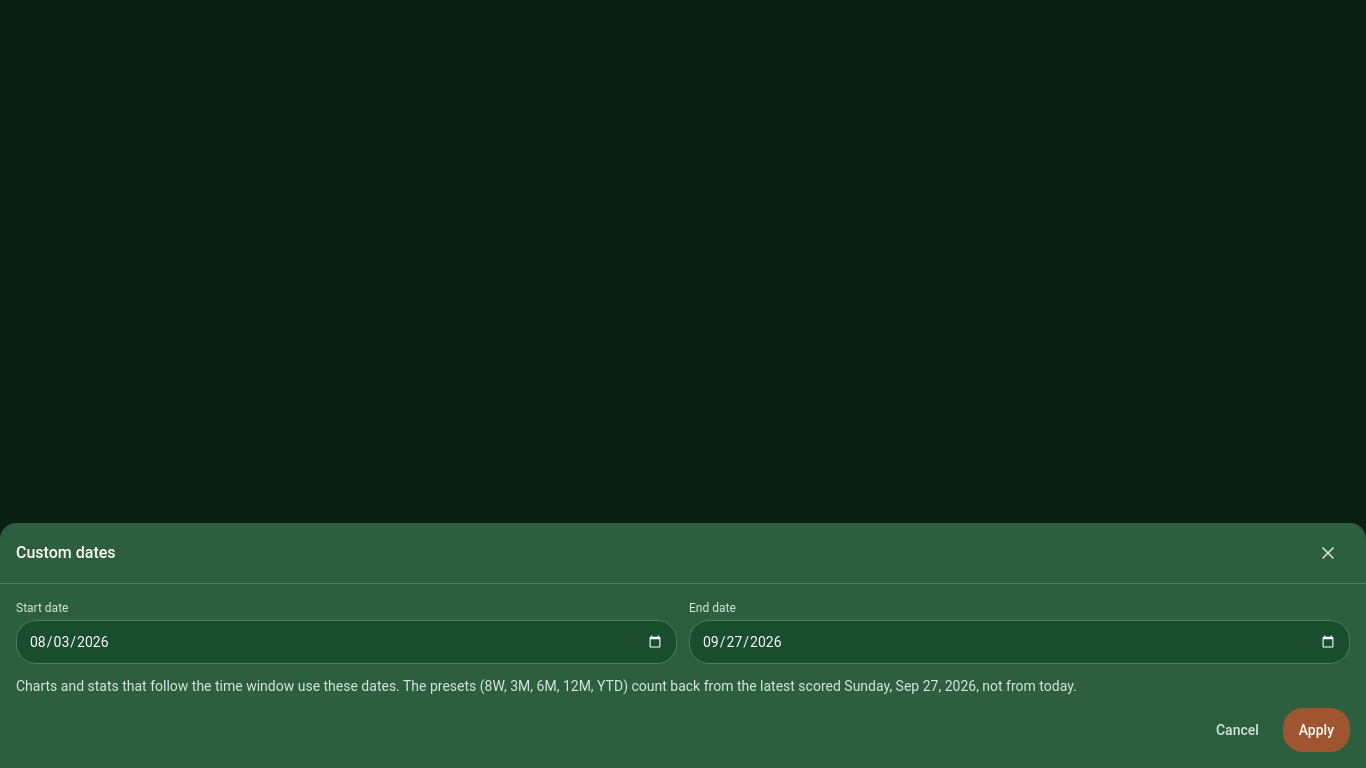
Test: CustomWindowSheet › warns about a reversed range and disables Apply
Type "2026-10-01" into the date field labelled "Start date".
click(346, 642); type("2026-10-01")  # box [16,620,677,664]
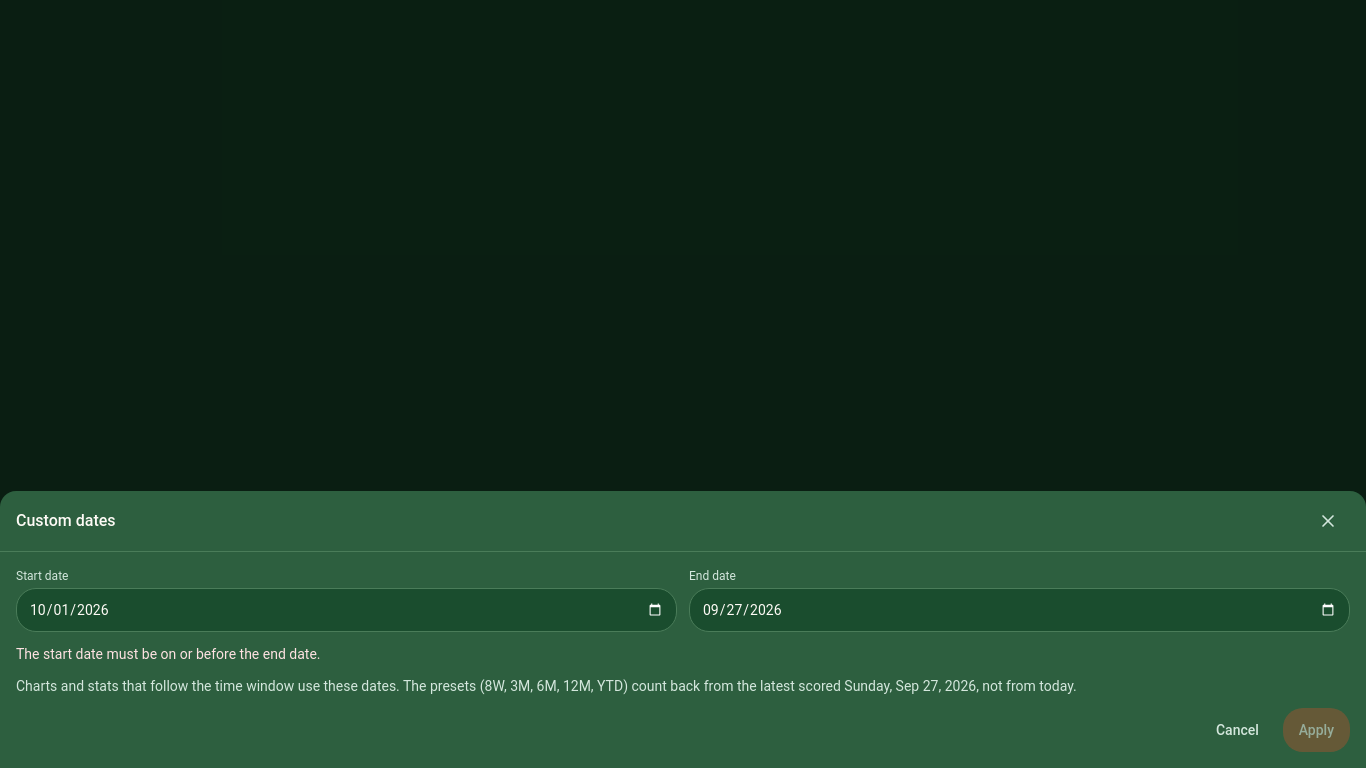
Check: the message reads "The start date must be on or before the end date.", box [16,646,320,662]
Check: the button "Apply" is disabled, box [1283,708,1350,752]
Type "2026-09-01" into the date field labelled "Start date".
click(346, 610); type("2026-09-01")  # box [16,588,677,632]
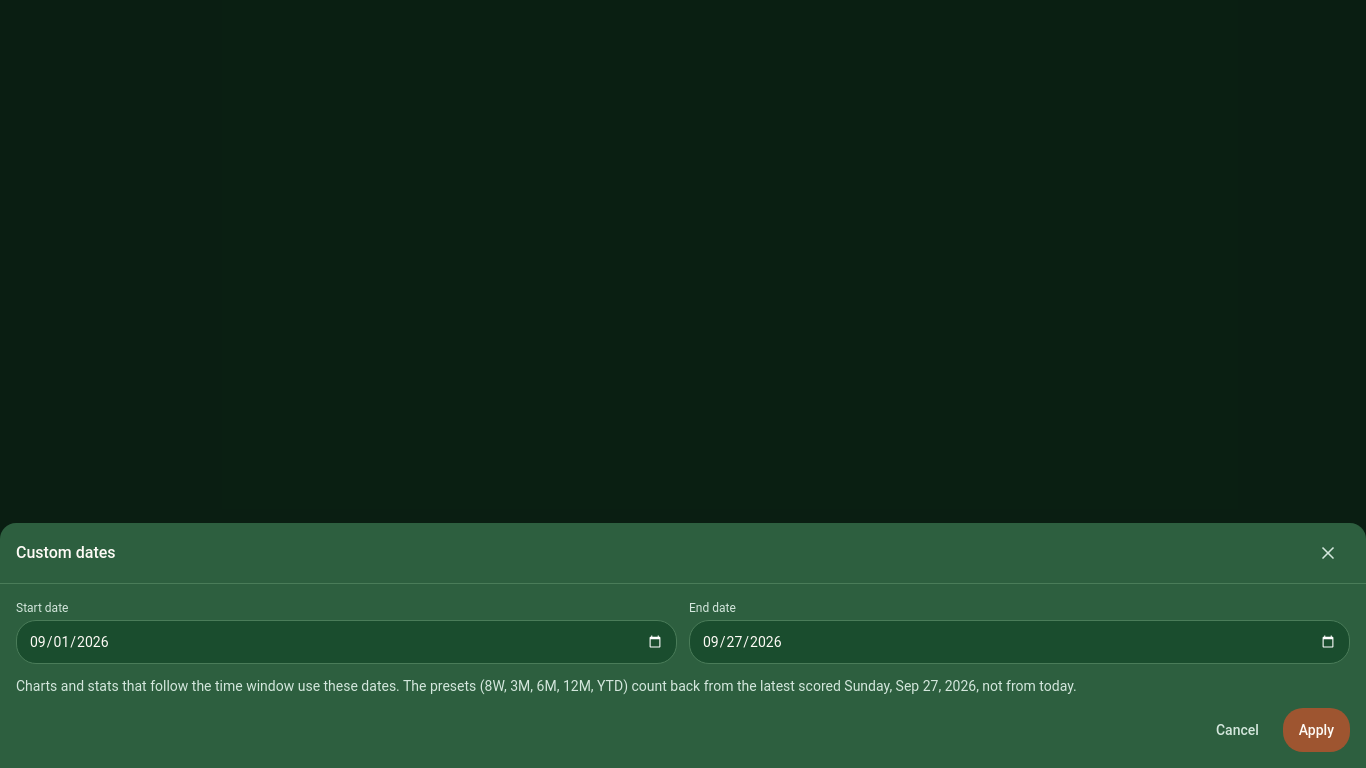
Check: the message "The start date must be on or before the end date." is gone
Check: the button "Apply" is enabled, box [1283,708,1350,752]
